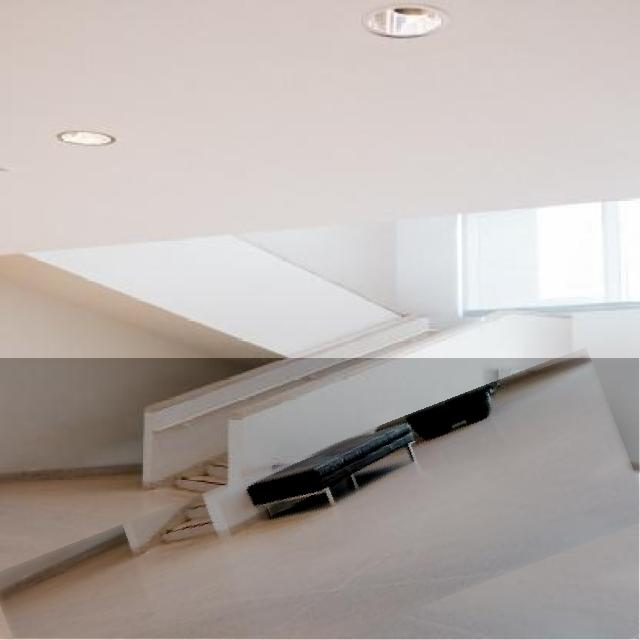floor: (0, 359, 640, 639)
